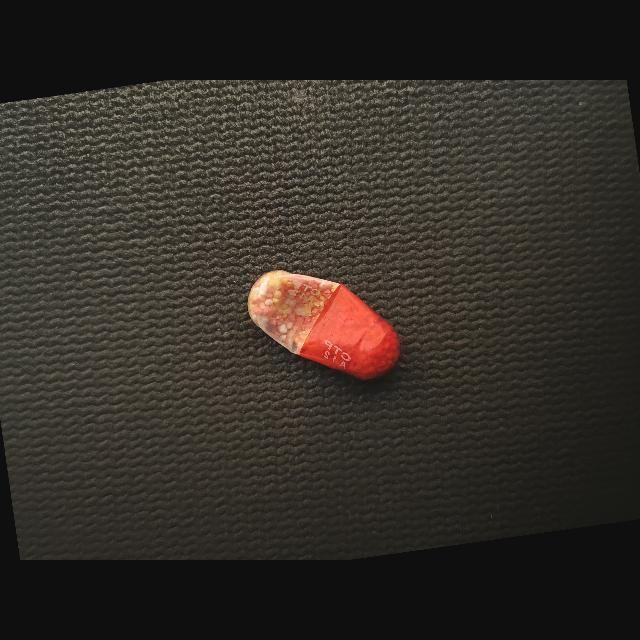Defective Capsule: (248, 270, 400, 380)
